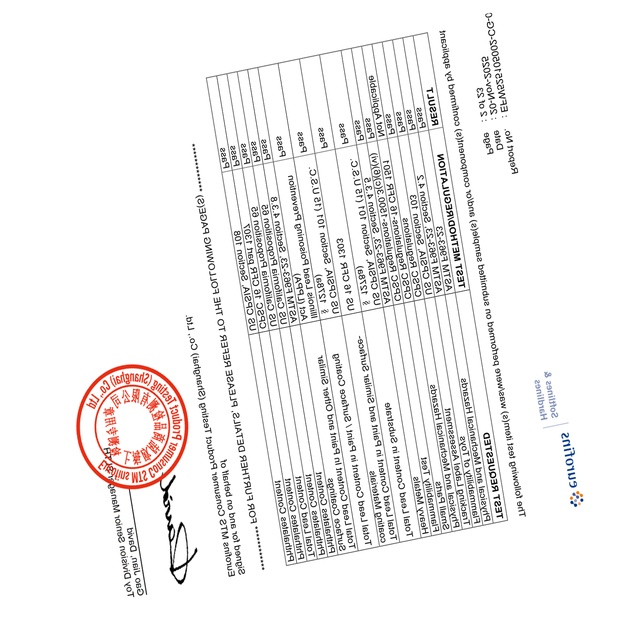eurofins: (559, 427, 587, 512)
